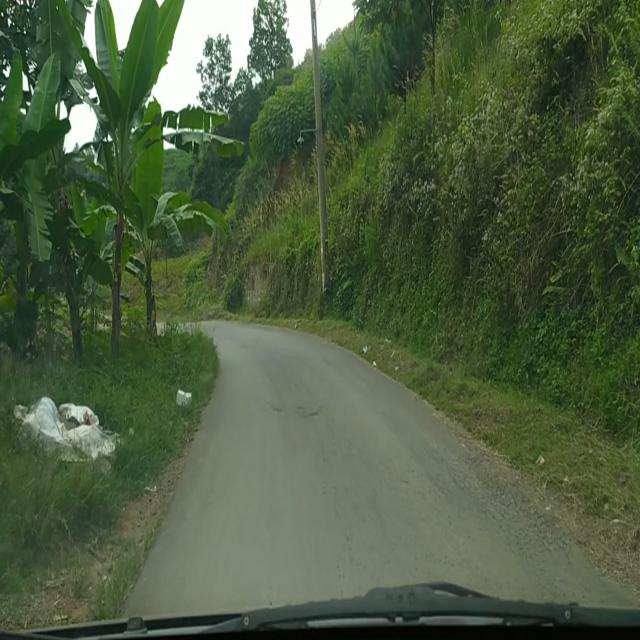Drain Hole: (432, 450, 574, 565)
